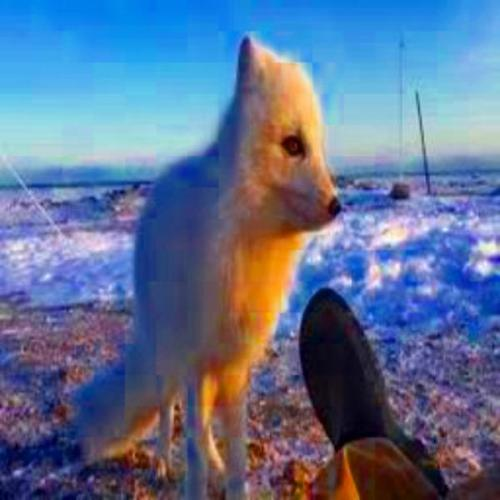arctic_fox-endangered: (72, 32, 343, 500)
